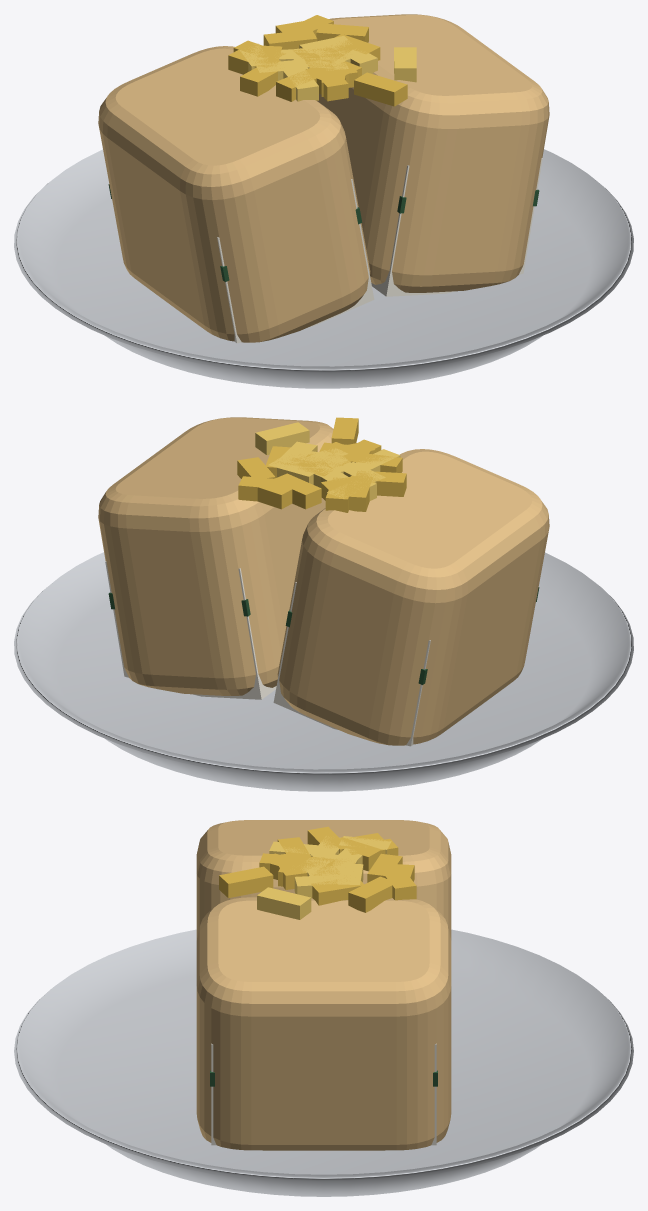
The model's file is mezzogiorno-super-focacciona.glb.
3 renders of one model, top to bottom at view 1: azimuth 30°, elevation 25°; view 2: azimuth 150°, elevation 25°; view 3: azimuth 270°, elevation 25°, orthographic.
Size of the model in its own units: 0.22 by 0.0878 by 0.22.
